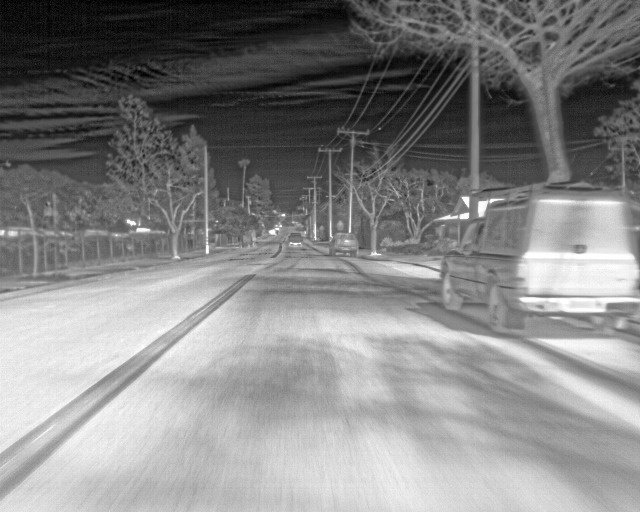vehicle: (440, 193, 638, 333), (332, 233, 358, 256), (288, 233, 304, 247)
